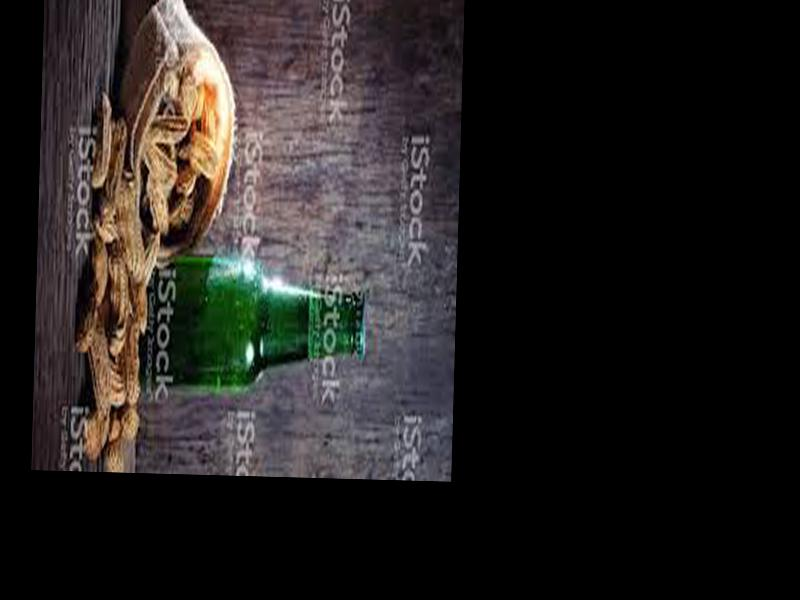Beer: (121, 249, 369, 393)
